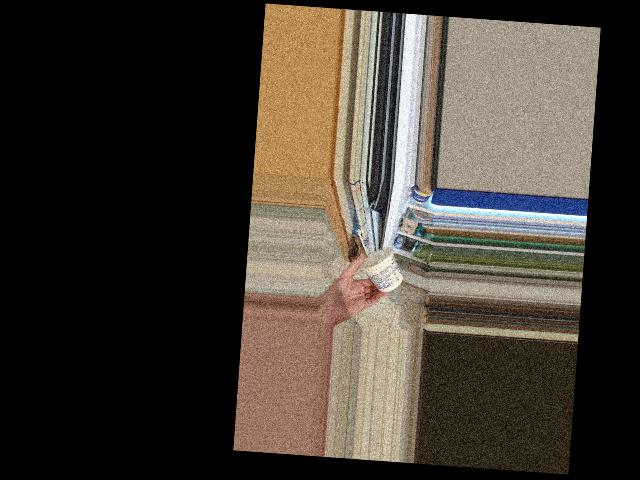cotage: (354, 250, 399, 292)
